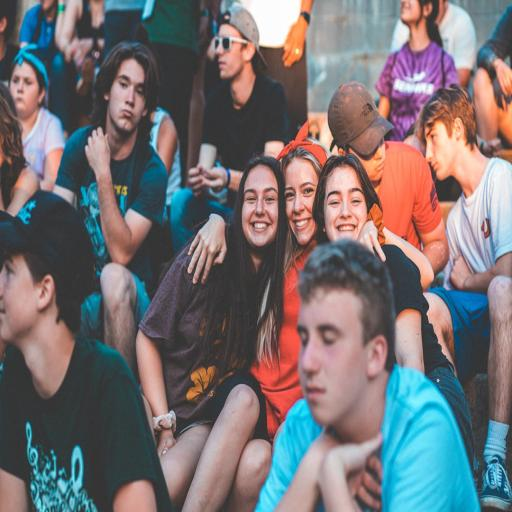face: (298, 289, 368, 433), (242, 165, 278, 268), (0, 255, 37, 344), (324, 166, 367, 241), (105, 59, 146, 135), (284, 158, 318, 246), (10, 62, 45, 119), (349, 138, 385, 187), (425, 121, 453, 179), (216, 42, 246, 79)
